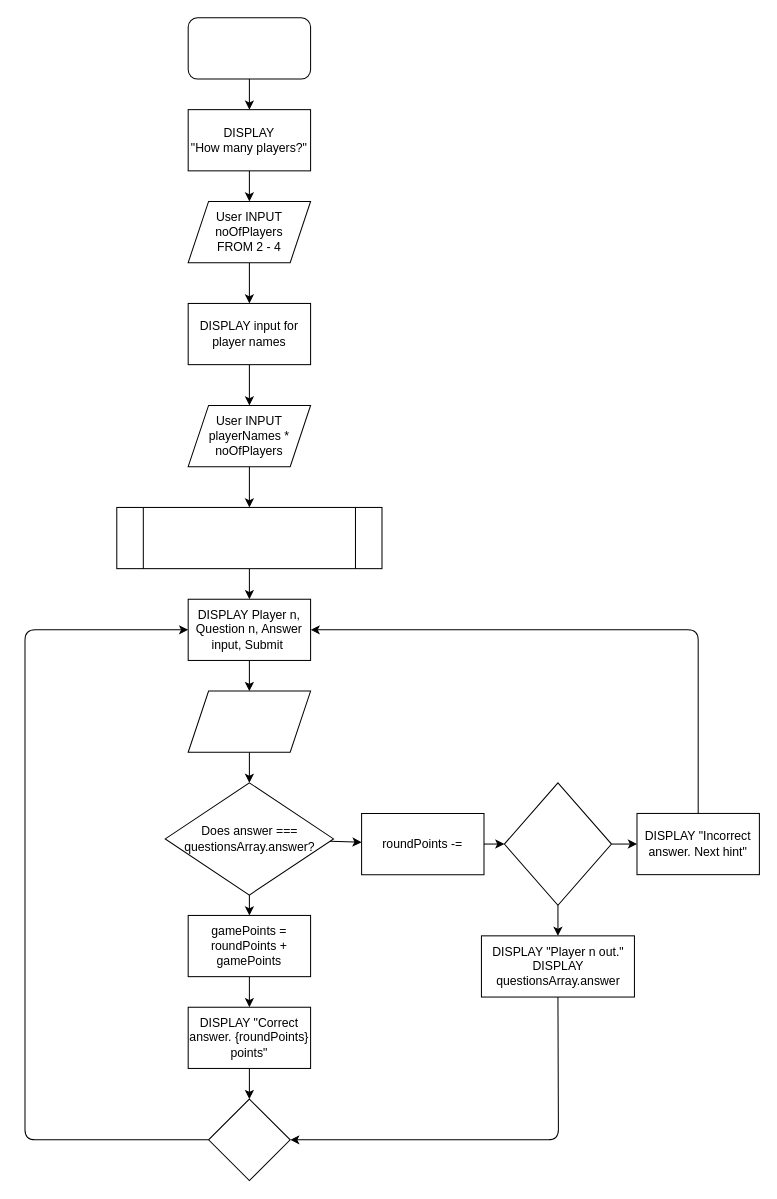
This 777x1199 diagram has some shape labels left out. The shapes that lost their labels are listed below. From the top down, each one's box as (x1, y1, x2, y2) in pixels, then its label:
(187, 17, 311, 79): Start
(116, 506, 382, 569): GENERATE randomNumber. SELECT Question 1 FROM questionsArray[randomNumber].q1
(187, 690, 311, 752): User INPUT answer
(503, 782, 611, 905): Is attempts < 3?
(208, 1098, 290, 1181): GO TO next player
